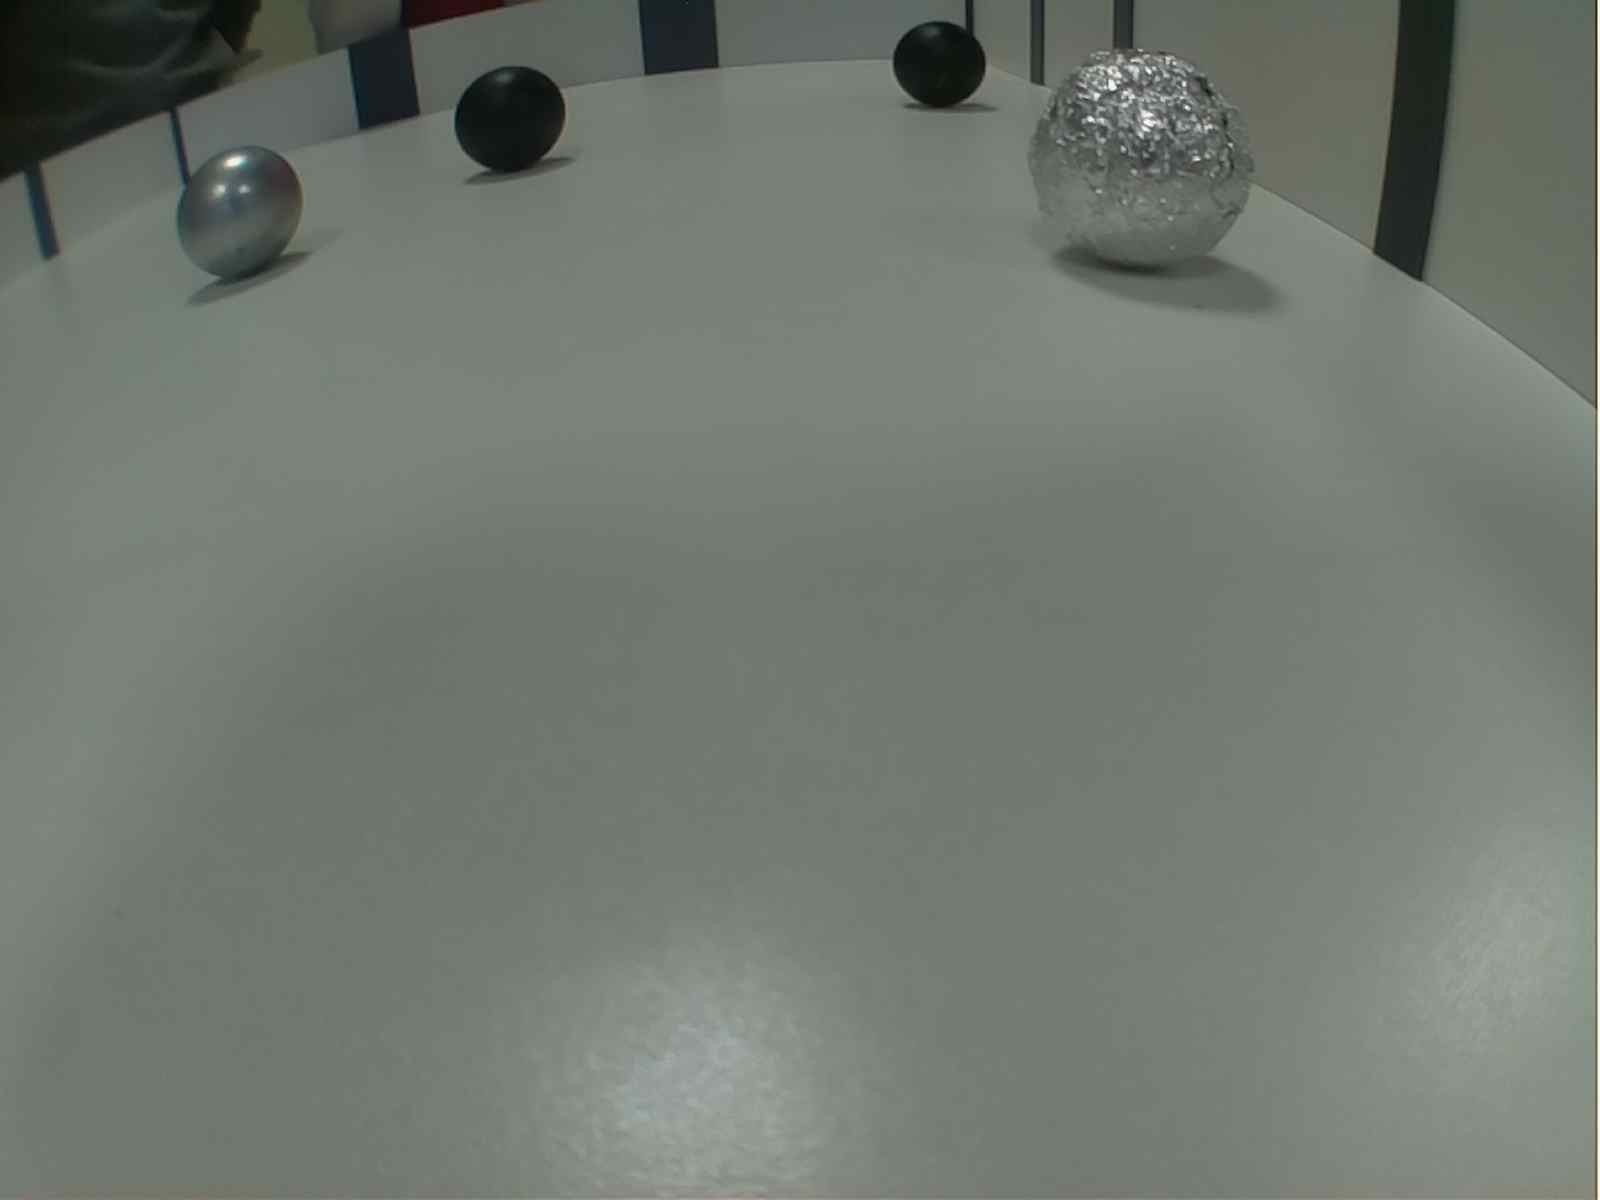bianca: (1031, 45, 1260, 275), (170, 141, 310, 281)
nera: (456, 61, 568, 171), (889, 13, 991, 113)
